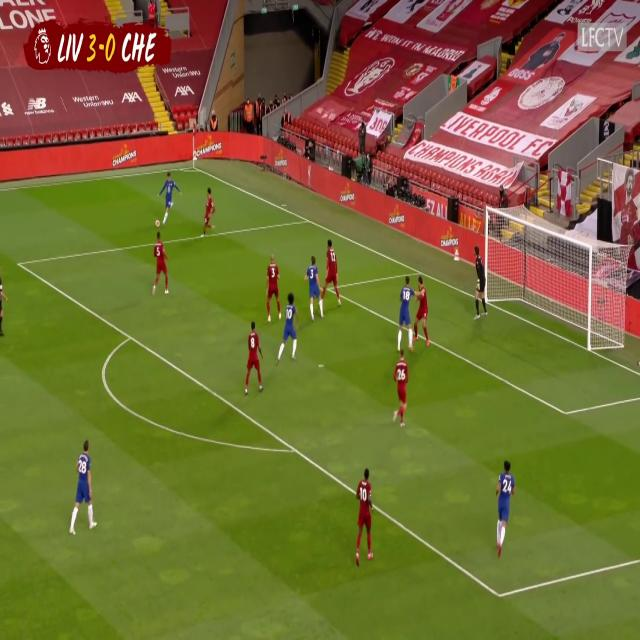Ball: (153, 215, 161, 232)
GoalKeeper: (472, 250, 487, 320)
TEAM 1: (68, 440, 98, 536), (494, 462, 515, 558), (274, 294, 299, 364), (304, 262, 326, 324), (398, 269, 413, 352), (157, 174, 179, 225)
TEAM 2: (356, 470, 376, 564), (244, 322, 266, 397), (410, 281, 430, 349), (322, 242, 341, 310), (151, 232, 170, 297), (392, 358, 409, 429), (265, 254, 281, 319), (202, 188, 216, 238)
